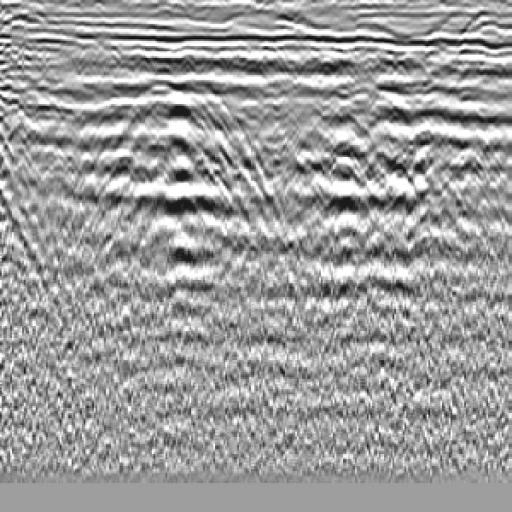metalic: (131, 66, 228, 143)
